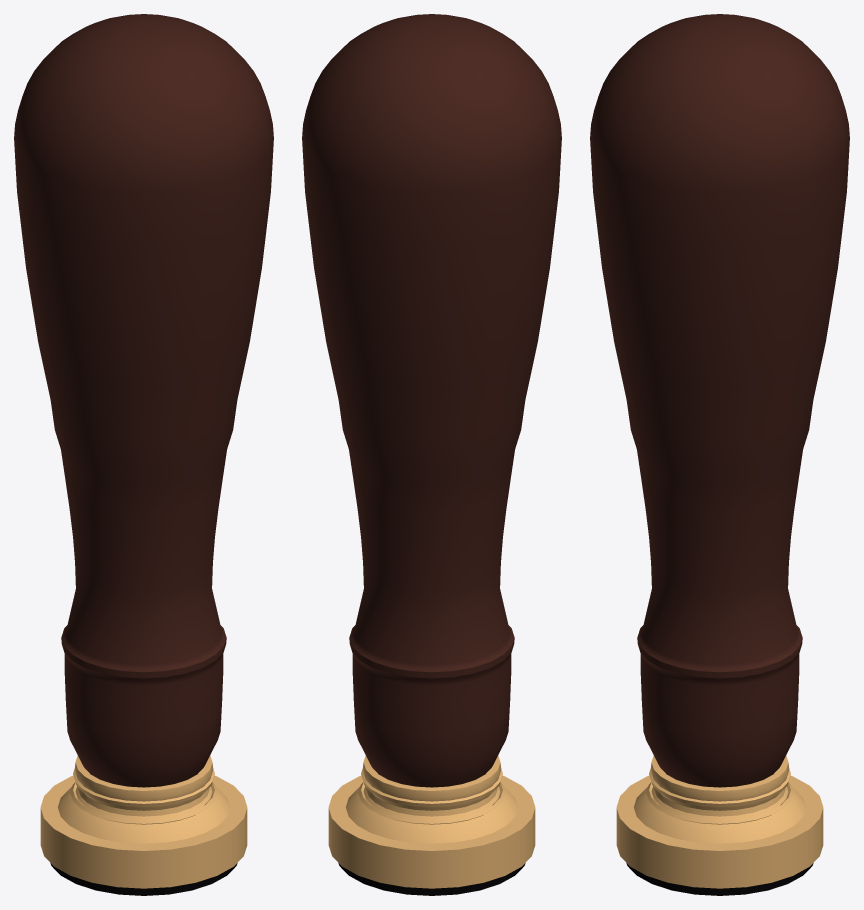
The model's file is damga6.fbx.
3 renders of one model, left to right at view 1: azimuth 30°, elevation 25°; view 2: azimuth 150°, elevation 25°; view 3: azimuth 270°, elevation 25°, orthographic.
Visible parts, largest first — view 1: damga6; view 2: damga6; view 3: damga6.
Part boxes in pixels (box(x1,y1,x2,y2)): damga6: box(14, 14, 273, 895); damga6: box(302, 14, 561, 895); damga6: box(590, 14, 849, 895).
Bounding box in the file's own units: 65.11 × 65.11 × 228.
